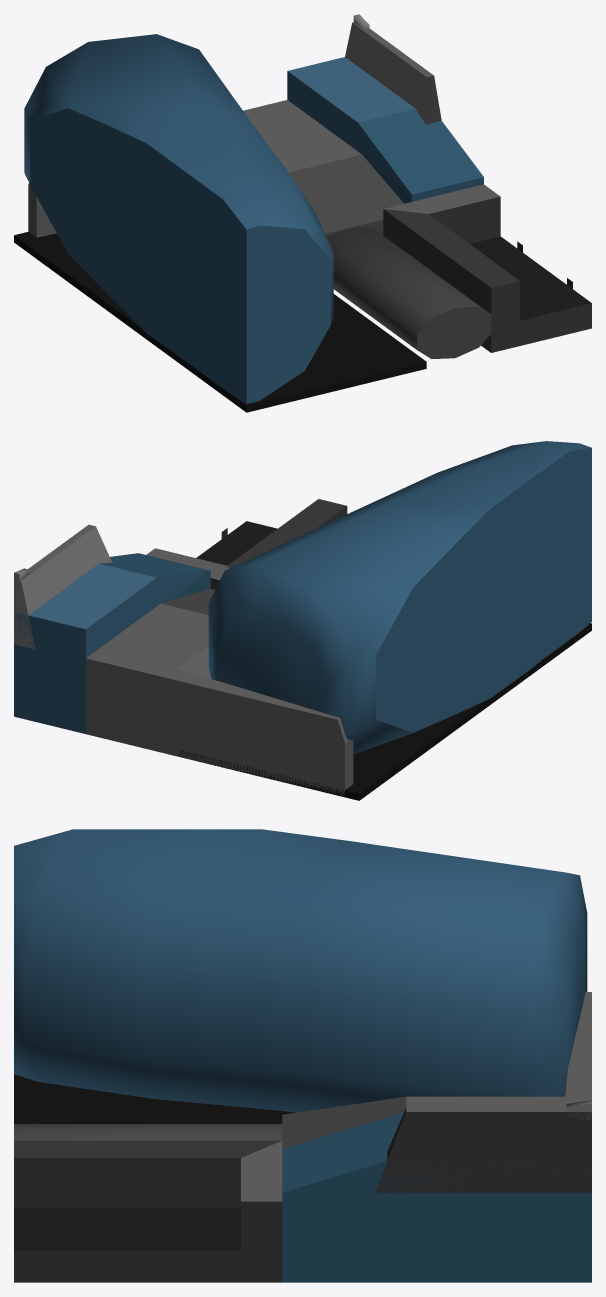
Rendered from newsho-49.glb.
3 views of the same model, one above another, from view 1: azimuth 30°, elevation 25°; view 2: azimuth 150°, elevation 25°; view 3: azimuth 270°, elevation 25° (orthographic). The views are drawn at different scales.
Parts seen in each view (by area): view 1: newsho-49; view 2: newsho-49; view 3: newsho-49.
Part boxes in pixels (x1,y1,x2,y2): newsho-49: (14,14,591,412); newsho-49: (14,441,591,800); newsho-49: (14,829,591,1282).
Size of the model in its own units: 2 by 1.09 by 2.33.
